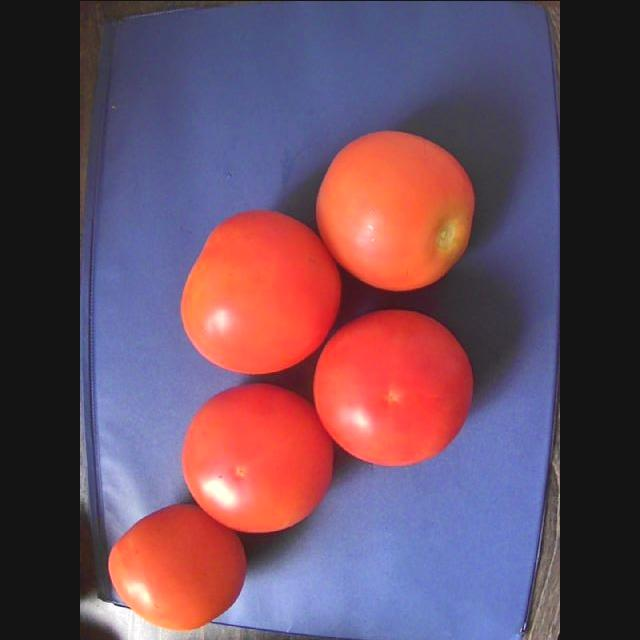tomate: (182, 209, 339, 372), (316, 130, 473, 289), (314, 309, 472, 464), (183, 383, 332, 531), (108, 503, 246, 630)
